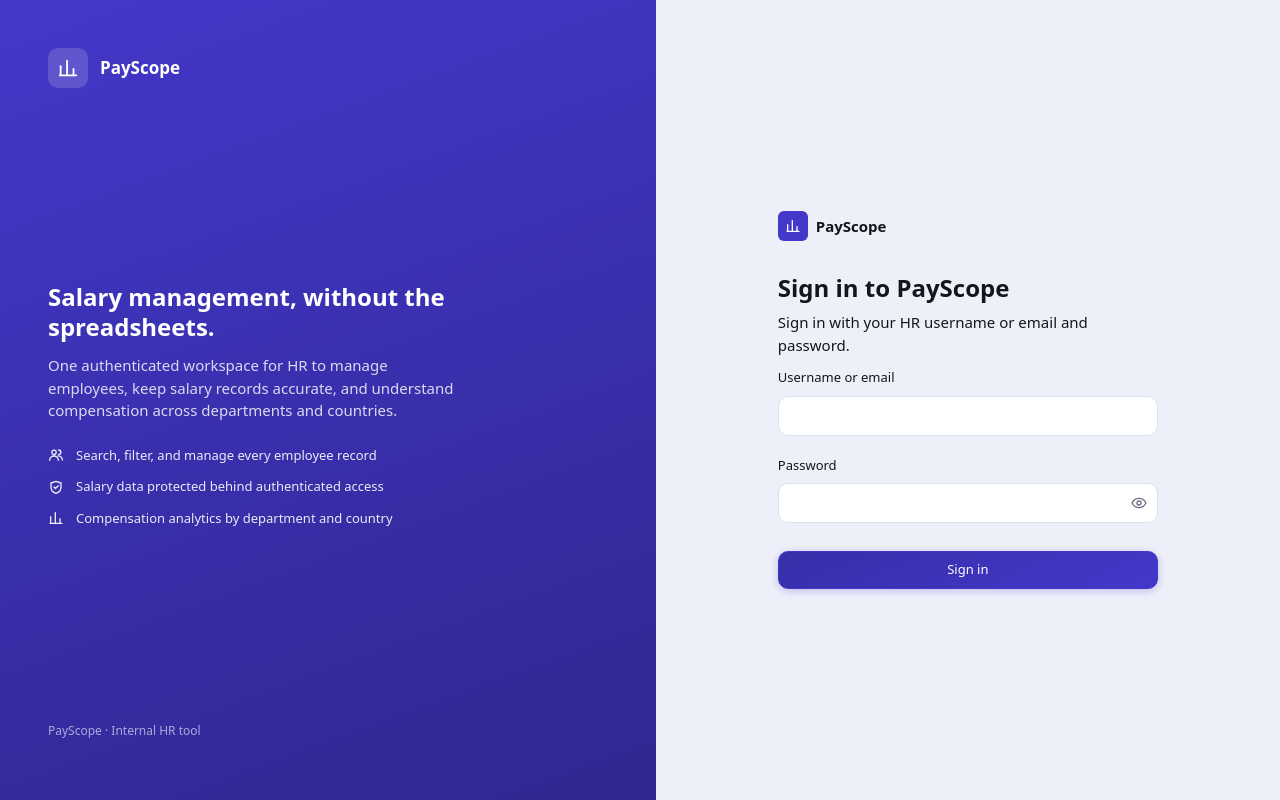
Scenario: LoginPage › requires a username/email and a password before submitting
Click the button "Sign in" at (968, 570), box [778, 551, 1158, 589]
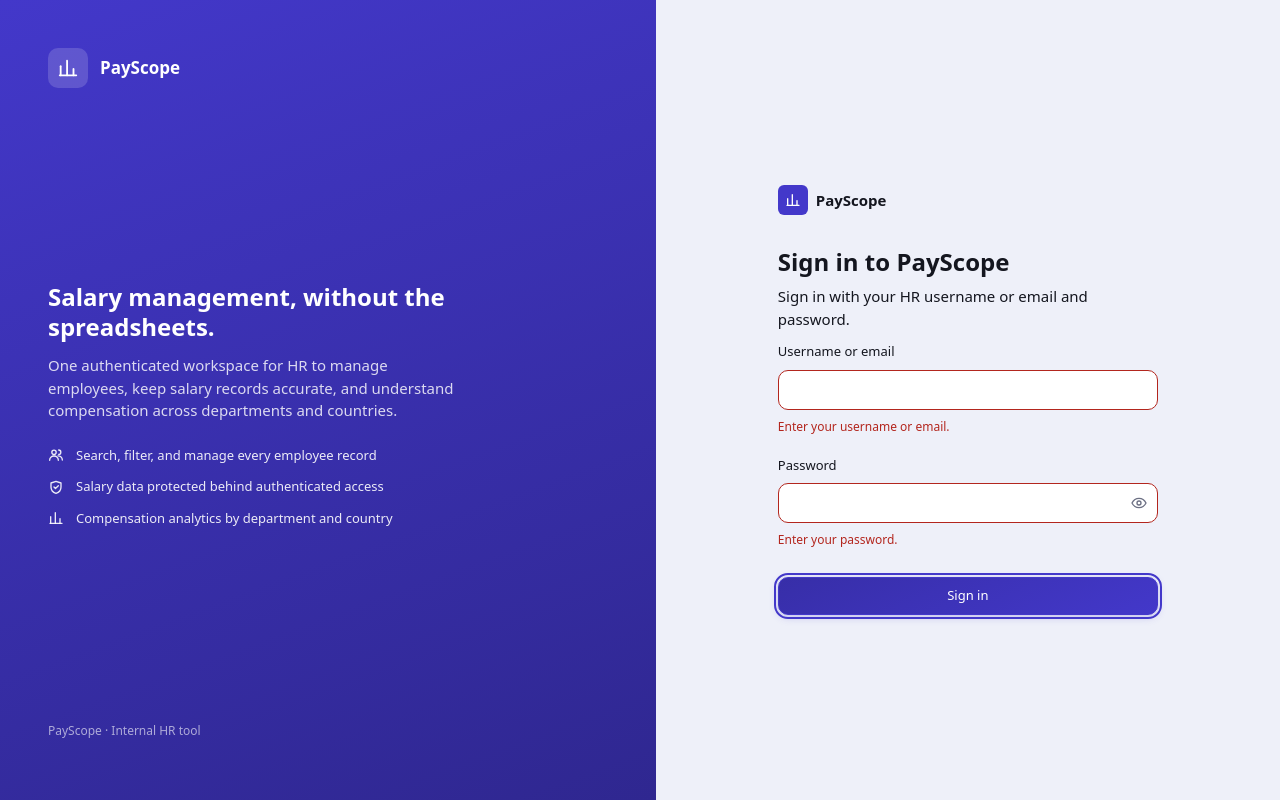
Expected: the text "Enter your username or email." is shown, [778, 418, 950, 434]
Expected: the text "Enter your password." is shown, [778, 531, 898, 548]
